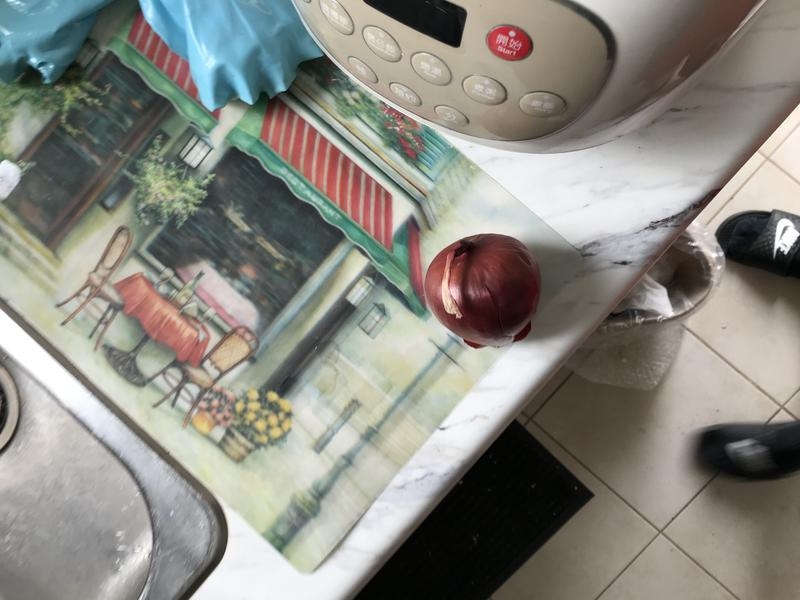purple_onion: (412, 224, 546, 357)
